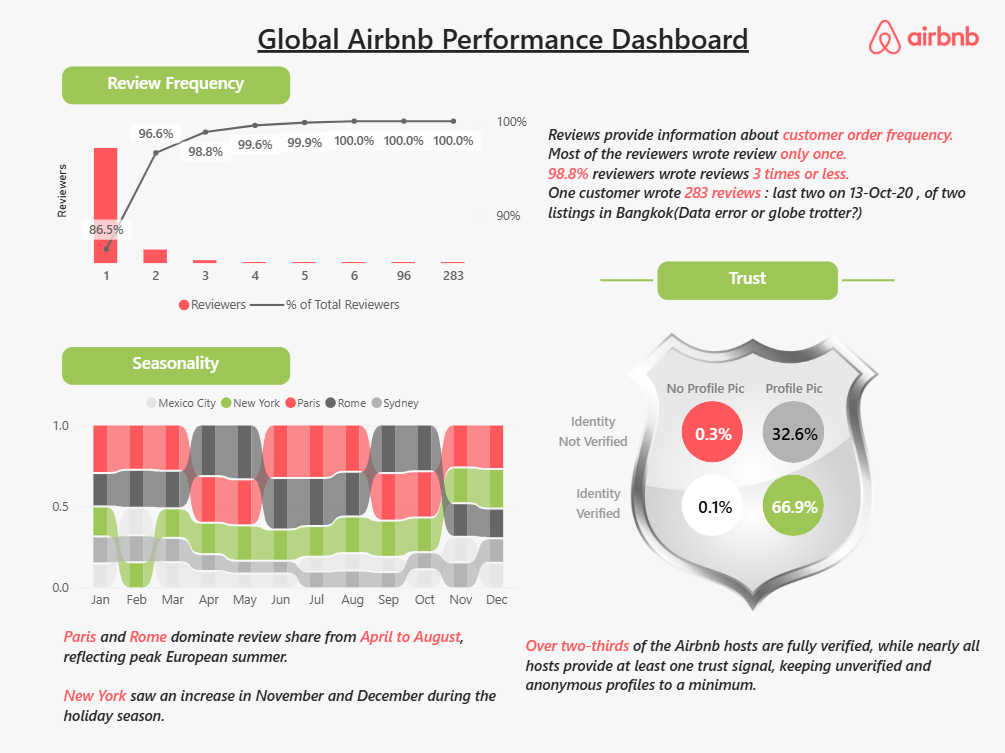

This screenshot's page, from the dashboard's own definition file:
{"tool":"powerbi","page":{"name":"Reviews","canvas":[960,720],"ordinal":2},"visuals":[{"type":"textbox","box":[227,18.4,506,49.6],"z":0},{"type":"image","box":[828.6,19,104.8,34.9],"z":1000},{"type":"textbox","box":[60,63.9,217,36],"z":3000},{"type":"lineStackedColumnComboChart","fields":{"Category":["Reviews.Reviews per reviewer"],"Y":["Reviews.Reviewers"],"Y2":["Reviews.Cumulative % review frequency"]},"box":[46.7,103.3,455,201.7],"z":4000},{"type":"textbox","box":[521.4,118.6,411.4,121.4],"z":5000},{"type":"textbox","box":[627.1,250,171.7,36.7],"z":6000},{"type":"shape","box":[572.9,231.4,50,72.9],"z":7000},{"type":"shape","box":[802.9,231.4,50,72.9],"z":8000},{"type":"image","box":[482.9,247.1,470,411.4],"z":9000},{"type":"shape","box":[650,382.9,58.6,58.6],"z":10000},{"type":"shape","box":[727.1,382.9,59,59],"z":11000},{"type":"shape","box":[650,452.9,58.6,58.6],"z":12000},{"type":"shape","box":[727.1,452.9,58.6,58.6],"z":13000},{"type":"textbox","box":[515.7,391.4,100,42.9],"z":14000},{"type":"textbox","box":[515.7,460,110,45.7],"z":15000},{"type":"textbox","box":[635.7,360,84.3,22.9],"z":16000},{"type":"textbox","box":[730,360,68.6,20],"z":17000},{"type":"cardVisual","fields":{"Data":["Listings.Verified_NoProfile %"]},"box":[650,451.4,77.1,62.9],"z":18000},{"type":"cardVisual","fields":{"Data":["Listings.NotVerified_Profile %"]},"box":[720,387.1,82.9,52.9],"z":19000},{"type":"cardVisual","fields":{"Data":["Listings.NotVerified_NoProfile %"]},"box":[647.1,385,72.9,54.3],"z":20000},{"type":"cardVisual","fields":{"Data":["Listings.Verified_Profile %"]},"box":[720,421.4,122.9,122.9],"z":21000},{"type":"textbox","box":[60,331.4,217.1,35.7],"z":22000},{"type":"ribbonChart","fields":{"Category":["Reviews.Review Month"],"Series":["Listings.city"],"Y":["Reviews.% of Monthly Reviews"]},"box":[43.3,358.3,458.3,236.7],"z":23000},{"type":"textbox","box":[501.7,605,440,91.7],"z":24000},{"type":"textbox","box":[61.7,596.7,420,113.3],"z":25000}]}

Visuals, with their boxes in screenshot pixels (x1, y1, x2, y2), scaled from the page's 960x720 canvas onto the 1005x753 screenshot:
textbox: x1=238 y1=19 x2=767 y2=71
image: x1=867 y1=20 x2=977 y2=56
textbox: x1=63 y1=67 x2=290 y2=104
lineStackedColumnComboChart - Reviews.Reviews per reviewer x Reviews.Reviewers: x1=49 y1=108 x2=525 y2=319
textbox: x1=546 y1=124 x2=977 y2=251
textbox: x1=656 y1=261 x2=836 y2=300
shape: x1=600 y1=242 x2=652 y2=318
shape: x1=841 y1=242 x2=893 y2=318
image: x1=506 y1=258 x2=998 y2=689
shape: x1=680 y1=400 x2=742 y2=462
shape: x1=761 y1=400 x2=823 y2=462
shape: x1=680 y1=474 x2=742 y2=535
shape: x1=761 y1=474 x2=823 y2=535
textbox: x1=540 y1=409 x2=645 y2=454
textbox: x1=540 y1=481 x2=655 y2=529
textbox: x1=665 y1=376 x2=754 y2=400
textbox: x1=764 y1=376 x2=836 y2=397
cardVisual - Listings.Verified_NoProfile %: x1=680 y1=472 x2=761 y2=538
cardVisual - Listings.NotVerified_Profile %: x1=754 y1=405 x2=841 y2=460
cardVisual - Listings.NotVerified_NoProfile %: x1=677 y1=403 x2=754 y2=459
cardVisual - Listings.Verified_Profile %: x1=754 y1=441 x2=882 y2=569
textbox: x1=63 y1=347 x2=290 y2=384
ribbonChart - Reviews.Review Month x Listings.city: x1=45 y1=375 x2=525 y2=622
textbox: x1=525 y1=633 x2=986 y2=729
textbox: x1=65 y1=624 x2=504 y2=743
